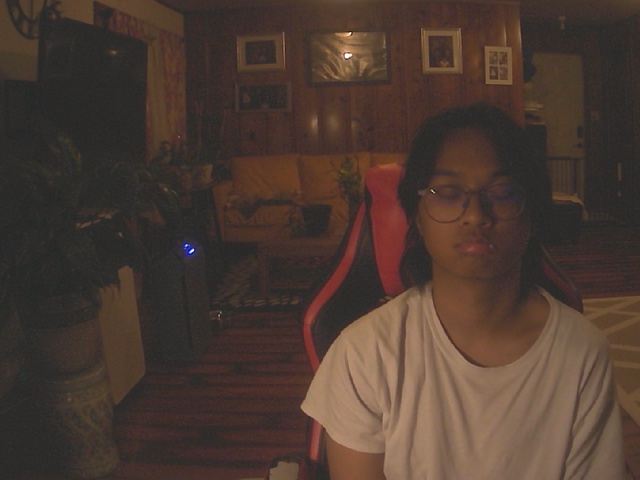sad: (398, 99, 553, 299)
